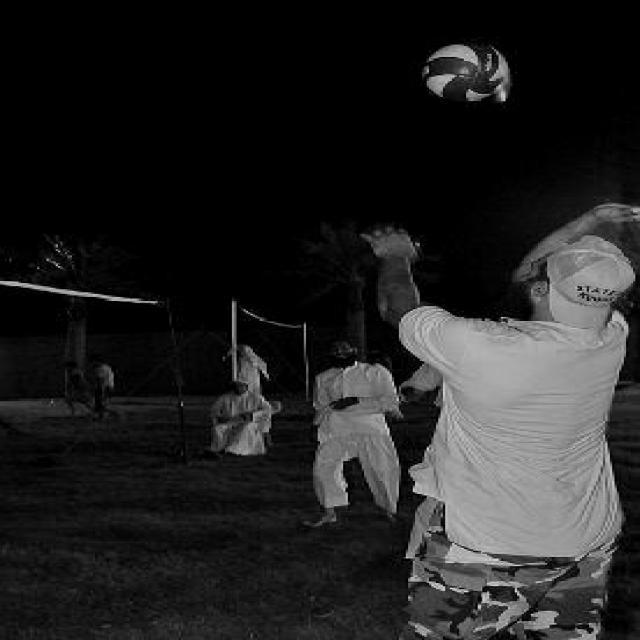volleyball: (424, 44, 509, 102)
